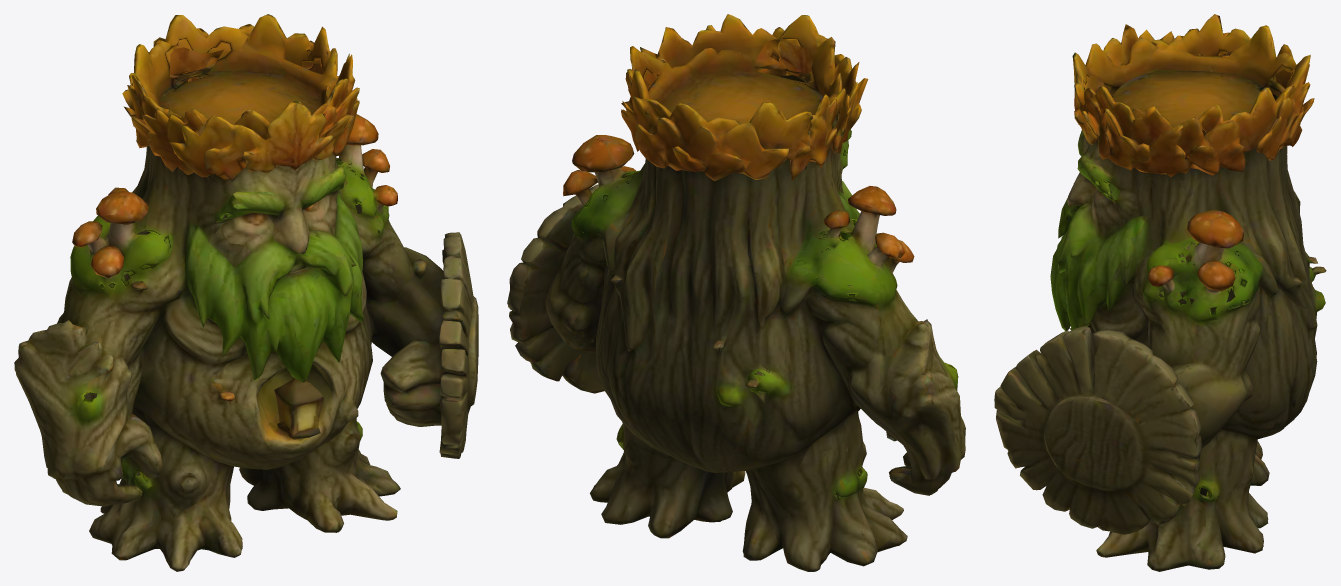
The model's file is model-hero-treant.glb.
3 renders of one model, left to right at view 1: azimuth 30°, elevation 25°; view 2: azimuth 150°, elevation 25°; view 3: azimuth 270°, elevation 25°, orthographic. The views are drawn at different scales.
Parts seen in each view (by area): view 1: geometry_0; view 2: geometry_0; view 3: geometry_0.
Boxes of the visible parts, x1,y1,x2,y2 form: geometry_0: (14, 14, 478, 571); geometry_0: (507, 14, 965, 571); geometry_0: (994, 14, 1326, 571).
Size of the model in its own units: 0.9944 by 0.9977 by 0.6665.
Materials: 1 (1 with a texture image).
